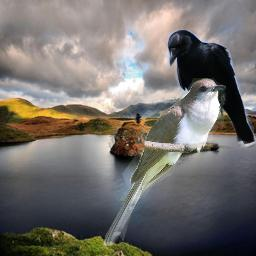Crow: (166, 29, 256, 150)
Cuckoo: (102, 78, 226, 247)
